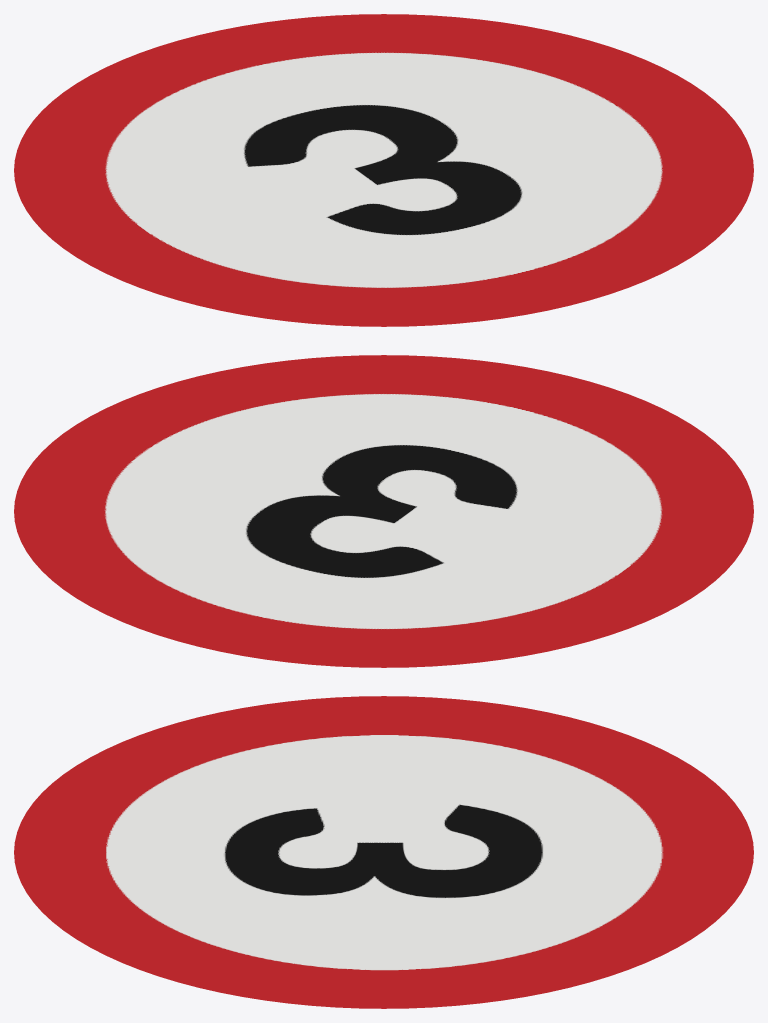
File: stage_03.obj
3 views of the same model, one above another, from view 1: azimuth 30°, elevation 25°; view 2: azimuth 150°, elevation 25°; view 3: azimuth 270°, elevation 25° (orthographic).
Visible parts, largest first — view 1: stage_03; view 2: stage_03; view 3: stage_03.
Part boxes in pixels (left/top/right/bottom): stage_03: left=14, top=14, right=753, bottom=326; stage_03: left=14, top=355, right=753, bottom=667; stage_03: left=14, top=696, right=753, bottom=1008.
Size of the model in its own units: 0.6 by 0 by 0.6.
Materials: 1 (1 with a texture image).
